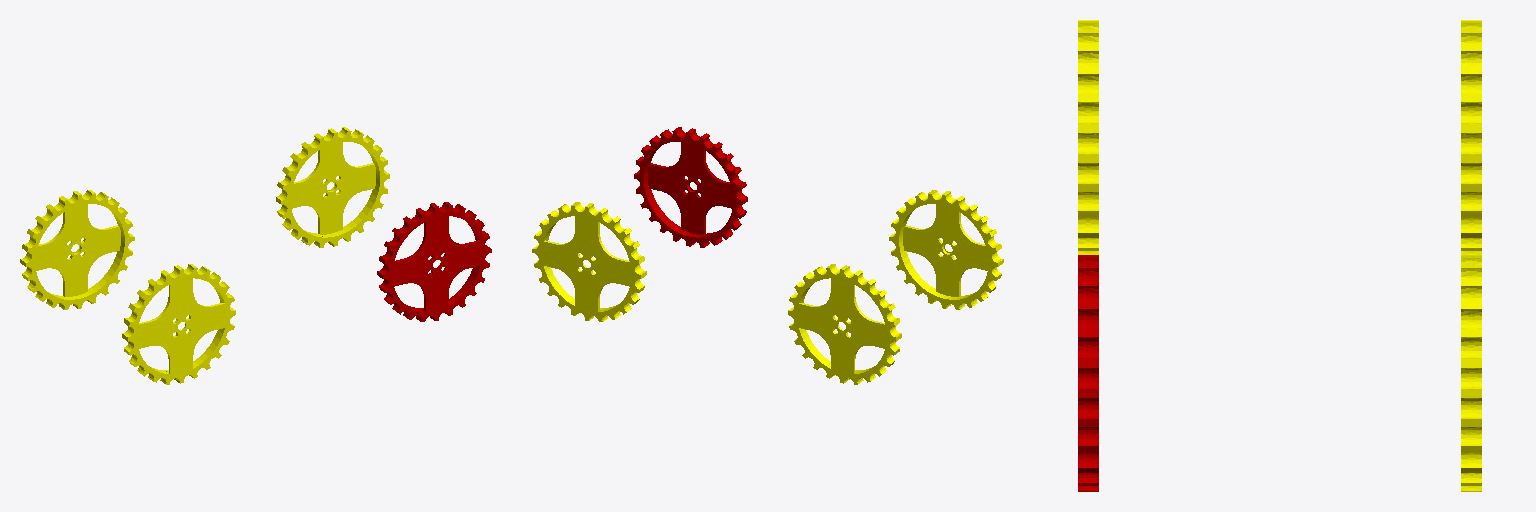
robot.urdf — dfx_ground_robot:
<?xml version="1.0" ?>
<!-- =================================================================================== -->
<!-- |    This document was autogenerated by xacro from dfx_ground_robot.xacro         | -->
<!-- |    EDITING THIS FILE BY HAND IS NOT RECOMMENDED                                 | -->
<!-- =================================================================================== -->
<robot name="dfx_ground_robot" xmlns:controller="http://playerstage.sourceforge.net/gazebo/xmlschema/#controller" xmlns:interface="http://playerstage.sourceforge.net/gazebo/xmlschema/#interface" xmlns:sensor="http://playerstage.sourceforge.net/gazebo/xmlschema/#sensor">
  <link name="base_footprint"/>
  <joint name="base_joint" type="fixed">
    <parent link="base_footprint"/>
    <child link="base_link"/>
    <origin rpy="0 0 0" xyz="0.0 0.0 0.045"/>
  </joint>
  <link name="base_link">
    <visual>
      <!-- <origin rpy="0 0 0" xyz="-0.065 0 0"/> -->
      <origin rpy="0 0 3.1415" xyz="0 0 -0.0225"/>
      <geometry>
        <mesh filename="package://dfx_ground_robot_description/meshes/body.stl"/>
      </geometry>
      <material name="gray">
        <color rgba="0.2 0.2 0.2 1"/>
      </material>
    </visual>
    <collision>
      <origin rpy="0 0 0" xyz="0 0 0"/>
      <geometry>
        <mesh filename="package://dfx_ground_robot_description/meshes/body.stl"/>
      </geometry>
    </collision>
    <inertial>
      <origin rpy="0.0 0.0 0.0" xyz="0.0 0.0 0.0"/>
      <mass value="3.314"/>
      <inertia ixx="1.0" ixy="0.0" ixz="0.0" iyy="1.0" iyz="0.0" izz="1.0"/>
    </inertial>
  </link>
  <joint name="right front joint" type="revolute">
    <parent link="base_link"/>
    <child link="right_front_wheel"/>
    <origin xyz="0.11 -0.08 0.0"/>
    <axis xyz="1 0 0"/>
    <limit effort="300" lower="-3.14" upper="3.14" velocity="0.1"/>
    <dynamics damping="50" friction="1"/>
  </joint>
  <link name="right_front_wheel">
    <visual>
      <origin rpy="0 0 0" xyz="0 0 0"/>
      <geometry>
        <mesh filename="package://dfx_ground_robot_description/meshes/right_wheel.stl"/>
      </geometry>
      <material name="red">
        <color rgba="0.8 0 0 1"/>
      </material>
    </visual>
    <collision>
      <origin rpy="0 0 0" xyz="0 0 0"/>
      <geometry>
        <mesh filename="package://dfx_ground_robot_description/meshes/right_wheel.stl"/>
      </geometry>
    </collision>
    <inertial>
      <origin rpy="0.0 0.0 0.0" xyz="0.0 0.0 0.0"/>
      <mass value="3.314"/>
      <inertia ixx="1.0" ixy="0.0" ixz="0.0" iyy="1.0" iyz="0.0" izz="1.0"/>
    </inertial>
  </link>
  <joint name="right rear joint" type="revolute">
    <parent link="base_link"/>
    <child link="right_rear_wheel"/>
    <origin xyz="-0.11 -0.08 0.0"/>
    <axis xyz="1 0 0"/>
    <limit effort="300" lower="-3.14" upper="3.14" velocity="0.1"/>
    <dynamics damping="50" friction="1"/>
  </joint>
  <link name="right_rear_wheel">
    <visual>
      <origin rpy="0 0 0" xyz="0 0 0"/>
      <geometry>
        <mesh filename="package://dfx_ground_robot_description/meshes/right_wheel.stl"/>
      </geometry>
      <material name="red">
        <color rgba="1 1 0 1"/>
      </material>
    </visual>
    <collision>
      <origin rpy="0 0 0" xyz="0 0 0"/>
      <geometry>
        <mesh filename="package://dfx_ground_robot_description/meshes/right_wheel.stl"/>
      </geometry>
    </collision>
    <inertial>
      <origin rpy="0.0 0.0 0.0" xyz="0.0 0.0 0.0"/>
      <mass value="3.314"/>
      <inertia ixx="1.0" ixy="0.0" ixz="0.0" iyy="1.0" iyz="0.0" izz="1.0"/>
    </inertial>
  </link>
  <joint name="left front joint" type="revolute">
    <parent link="base_link"/>
    <child link="left_front_wheel"/>
    <origin xyz="0.11 0.08 0.0"/>
    <axis xyz="1 0 0"/>
    <limit effort="300" lower="-3.14" upper="3.14" velocity="0.1"/>
    <dynamics damping="50" friction="1"/>
  </joint>
  <link name="left_front_wheel">
    <visual>
      <origin rpy="0 0 0" xyz="0 0 0"/>
      <geometry>
        <mesh filename="package://dfx_ground_robot_description/meshes/left_wheel.stl"/>
      </geometry>
      <material name="red">
        <color rgba="1 1 0 1"/>
      </material>
    </visual>
    <collision>
      <origin rpy="0 0 0" xyz="0 0 0"/>
      <geometry>
        <mesh filename="package://dfx_ground_robot_description/meshes/left_wheel.stl"/>
      </geometry>
    </collision>
    <inertial>
      <origin rpy="0.0 0.0 0.0" xyz="0.0 0.0 0.0"/>
      <mass value="3.314"/>
      <inertia ixx="1.0" ixy="0.0" ixz="0.0" iyy="1.0" iyz="0.0" izz="1.0"/>
    </inertial>
  </link>
  <joint name="left rear joint" type="revolute">
    <parent link="base_link"/>
    <child link="left_rear_wheel"/>
    <origin xyz="-0.11 0.08 0.0"/>
    <axis xyz="1 0 0"/>
    <limit effort="300" lower="-3.14" upper="3.14" velocity="0.1"/>
    <dynamics damping="50" friction="1"/>
  </joint>
  <link name="left_rear_wheel">
    <visual>
      <origin rpy="0 0 0" xyz="0 0 0"/>
      <geometry>
        <mesh filename="package://dfx_ground_robot_description/meshes/left_wheel.stl"/>
      </geometry>
      <material name="red">
        <color rgba="1 1 0 1"/>
      </material>
    </visual>
    <collision>
      <origin rpy="0 0 0" xyz="0 0 0"/>
      <geometry>
        <mesh filename="package://dfx_ground_robot_description/meshes/left_wheel.stl"/>
      </geometry>
    </collision>
    <inertial>
      <origin rpy="0.0 0.0 0.0" xyz="0.0 0.0 0.0"/>
      <mass value="3.314"/>
      <inertia ixx="1.0" ixy="0.0" ixz="0.0" iyy="1.0" iyz="0.0" izz="1.0"/>
    </inertial>
  </link>
  <joint name="imu_joint" type="fixed">
    <parent link="base_link"/>
    <child link="imu_link"/>
    <origin rpy="0 0 0" xyz="0 0 0.035"/>
  </joint>
  <link name="imu_link"/>
  <!-- <joint name="camera_joint" type="fixed">
        <origin xyz="0.12 0 0.08" rpy="0 0 0"/>
        <parent link="base_link"/>
        <child link="camera_link"/>
    </joint>


    <link name="camera_link">
        <visual>
        <origin xyz="0 0 0" rpy="1.57 0 1.57"/>
        <geometry>
        <mesh filename="package://realsense2_description/meshes/d435.dae" />
        </geometry>
        </visual>
        <collision>
        <origin xyz="0 0 0" rpy="0 0 0"/>
        <geometry>
            <box size="0.012 0.132 0.020"/>
        </geometry>
        </collision>
    </link>  -->
</robot>

--- Render facts (derived) ---
Views: 3 orthographic renders of the robot side by side, from view 1: azimuth 30°, elevation 25°; view 2: azimuth 150°, elevation 25°; view 3: azimuth 270°, elevation 25°.
Model dfx_ground_robot with 7 links and 6 joints (4 revolute, 2 fixed), rooted at base_footprint, posed every joint at zero.
Links seen in each view (by area): view 1: left_front_wheel, right_front_wheel, right_rear_wheel, left_rear_wheel; view 2: right_front_wheel, left_front_wheel, left_rear_wheel, right_rear_wheel; view 3: right_front_wheel, left_front_wheel, right_rear_wheel, left_rear_wheel.
Link boxes in pixels (x1=…): left_front_wheel: x1=276, y1=127, x2=389, y2=247; right_front_wheel: x1=377, y1=202, x2=491, y2=321; right_rear_wheel: x1=122, y1=264, x2=235, y2=384; left_rear_wheel: x1=20, y1=190, x2=134, y2=309; right_front_wheel: x1=634, y1=127, x2=747, y2=247; left_front_wheel: x1=532, y1=202, x2=646, y2=321; left_rear_wheel: x1=788, y1=264, x2=901, y2=384; right_rear_wheel: x1=889, y1=190, x2=1003, y2=309; right_front_wheel: x1=1078, y1=255, x2=1098, y2=491; left_front_wheel: x1=1461, y1=255, x2=1481, y2=491; right_rear_wheel: x1=1078, y1=20, x2=1098, y2=254; left_rear_wheel: x1=1461, y1=20, x2=1481, y2=254.
Bounding box of the posed robot: 0.3135 × 0.16 × 0.0936 m (x, y, z).
Meshes: 3 distinct files referenced, 4 mesh visuals loaded (2 binary STL); not drawn: 1 (reference not matched to a file when rendering).